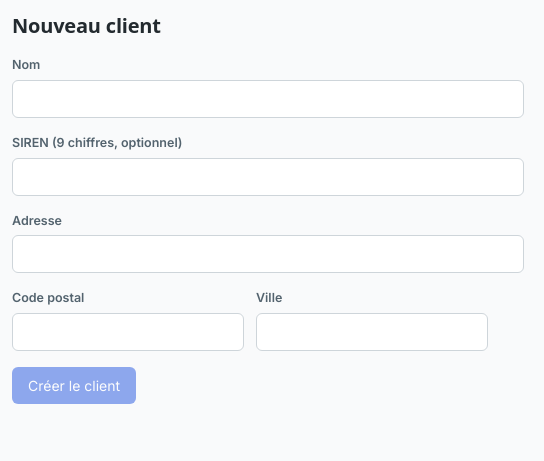
Test: affiche l’erreur API (SIREN dupliqué)
Step 1. Type "Doublon" into the field labelled "Nom" → (268, 99), box [12,80,524,118]
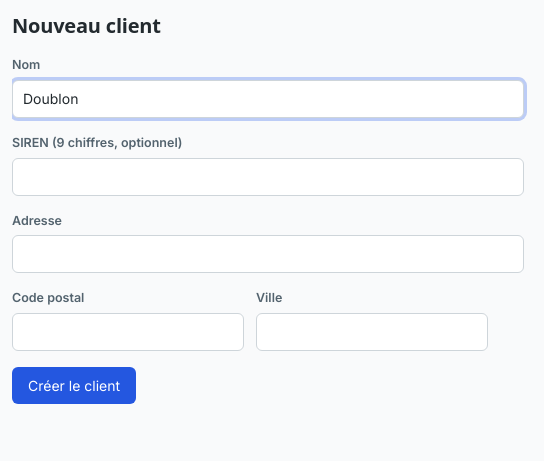
Step 2. Click the button "Créer le client" → click(74, 386), box [12,367,136,404]
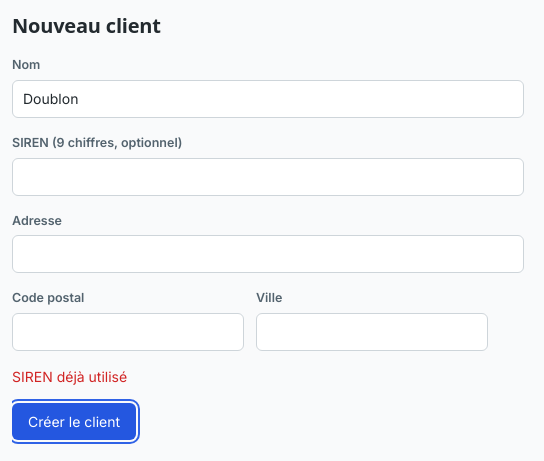
Result: the text "SIREN déjà utilisé" is shown at [12,368,127,385]
